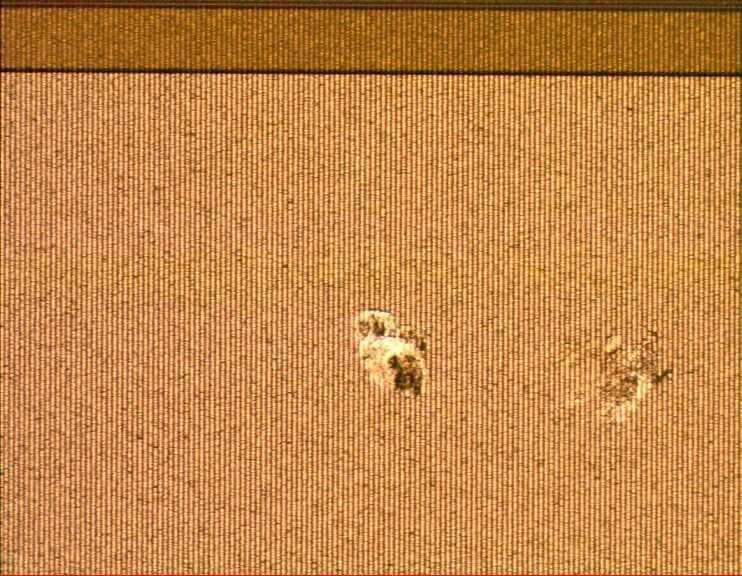SCRATCH: (326, 300, 687, 429)
